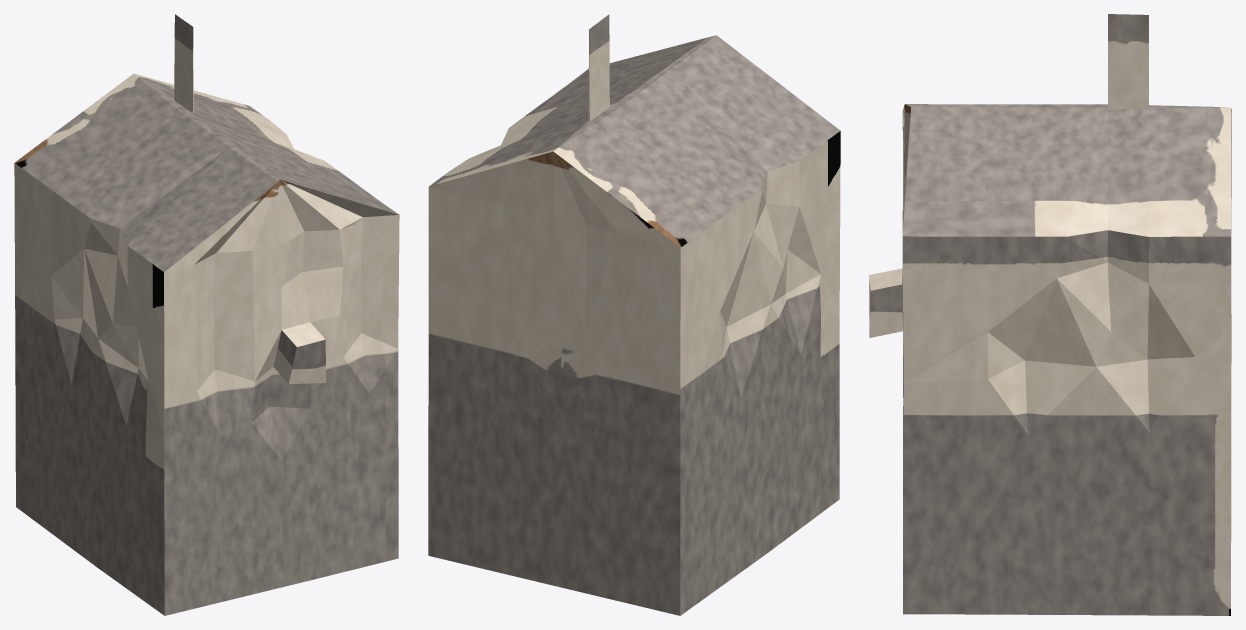
The model's file is town_hero_building_r3.glb.
3 views of the same model, side by side, from view 1: azimuth 30°, elevation 25°; view 2: azimuth 150°, elevation 25°; view 3: azimuth 270°, elevation 25° (orthographic). The views are drawn at different scales.
Visible parts, largest first — view 1: town_building_lp; view 2: town_building_lp; view 3: town_building_lp.
Part boxes in pixels (x1,y1,x2,y2): town_building_lp: (14, 14, 399, 615); town_building_lp: (428, 14, 840, 615); town_building_lp: (869, 14, 1231, 615).
Bounding box in the file's own units: 4.03 × 8.02 × 4.87.
1 material, 1 textured.
